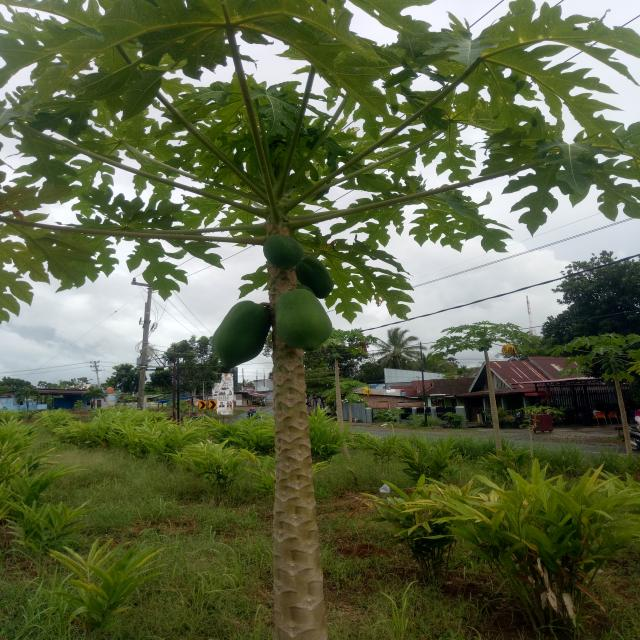Pepaya unrippen: (268, 287, 336, 351), (208, 306, 266, 372), (268, 235, 305, 271)
